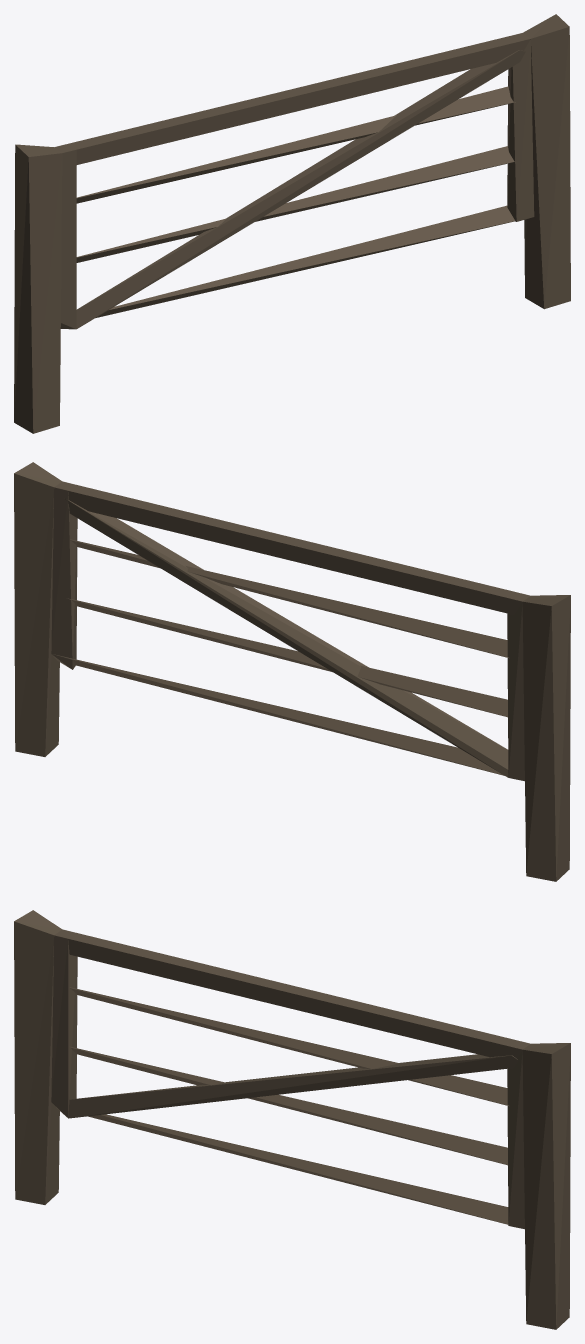
File: gate-farm-lod1.glb
3 views of the same model, one above another, from view 1: azimuth 30°, elevation 25°; view 2: azimuth 150°, elevation 25°; view 3: azimuth 330°, elevation 25° (orthographic).
Size of the model in its own units: 3.82 by 1.86 by 0.2201.
